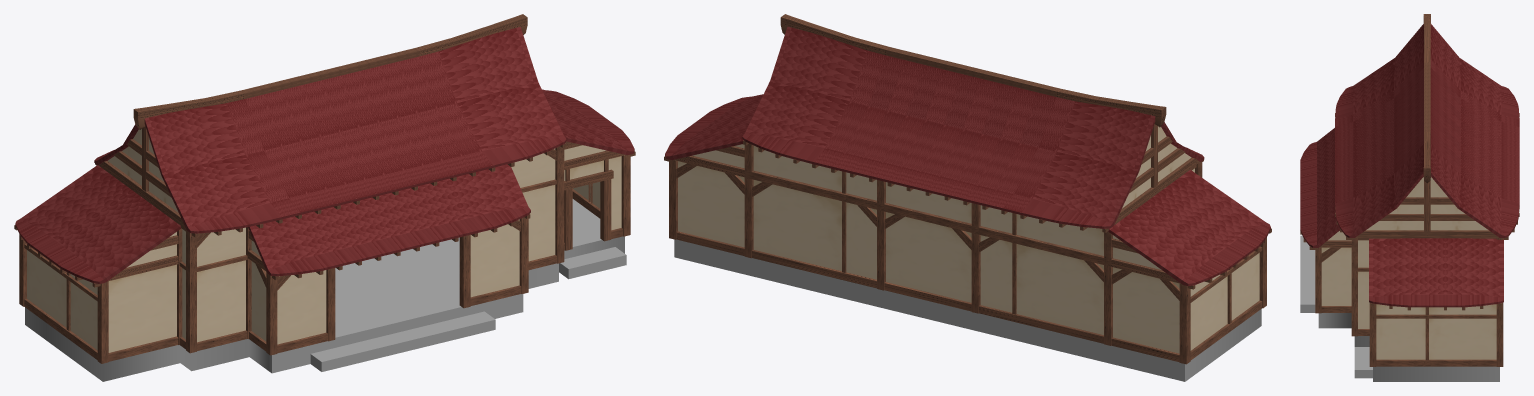
The model's file is Farm_House_MESH_1.fbx.
3 renders of one model, left to right at view 1: azimuth 30°, elevation 25°; view 2: azimuth 150°, elevation 25°; view 3: azimuth 270°, elevation 25°, orthographic. The views are drawn at different scales.
Parts seen in each view (by area): view 1: pCube2439; view 2: pCube2439; view 3: pCube2439.
Boxes of the visible parts, left/top/right/bottom form: pCube2439: left=14, top=14, right=635, bottom=381; pCube2439: left=664, top=14, right=1271, bottom=381; pCube2439: left=1300, top=14, right=1519, bottom=381.
Bounding box in the file's own units: 2900 × 1140 × 1209.
